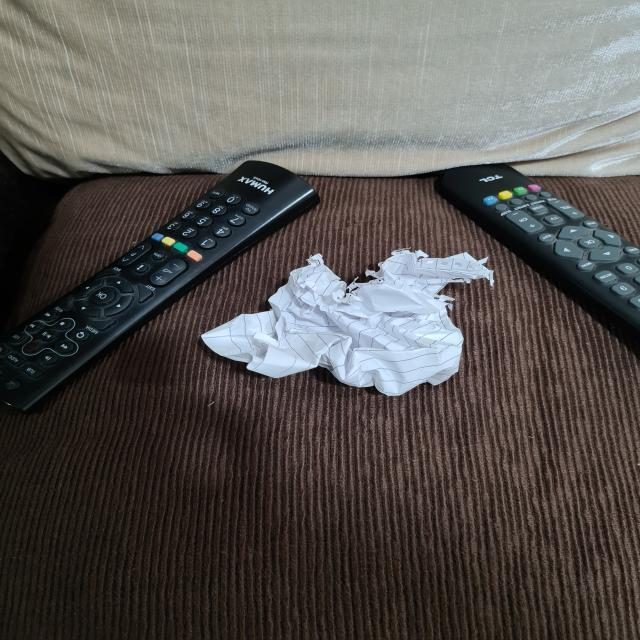Paper: (204, 250, 497, 395)
